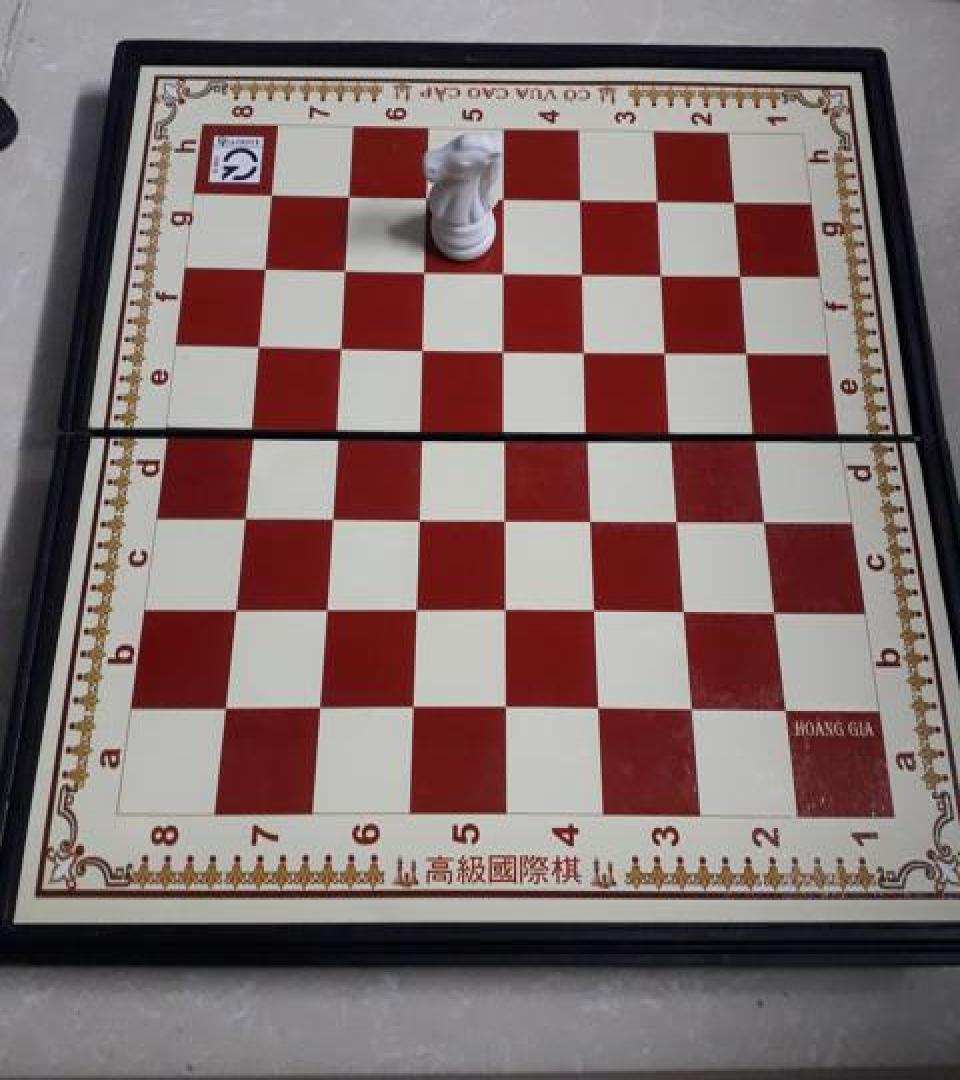xcorner: (491, 588, 523, 625), (581, 588, 613, 625), (671, 588, 703, 625), (761, 588, 793, 625), (209, 686, 241, 722), (303, 688, 335, 724), (397, 688, 429, 724), (491, 688, 523, 724), (584, 688, 616, 724), (678, 688, 710, 724), (771, 688, 803, 724), (218, 587, 250, 623), (309, 587, 341, 623), (400, 587, 432, 623), (227, 494, 259, 530), (315, 494, 347, 530), (403, 495, 435, 531), (490, 495, 522, 531), (578, 496, 610, 532), (665, 496, 697, 532), (751, 496, 783, 532), (236, 407, 268, 443), (321, 407, 353, 443), (406, 408, 438, 444), (490, 408, 522, 444), (575, 410, 607, 446), (659, 410, 691, 446), (743, 410, 775, 446), (244, 325, 276, 361), (326, 326, 358, 362), (408, 326, 440, 362), (490, 328, 522, 364), (572, 328, 604, 364), (735, 330, 767, 366), (251, 248, 283, 284), (331, 250, 363, 286), (410, 251, 442, 287), (490, 251, 522, 287), (569, 252, 601, 288), (648, 252, 680, 288), (727, 253, 759, 289), (258, 178, 290, 214), (335, 178, 367, 214), (412, 179, 444, 215), (490, 179, 522, 215), (566, 180, 598, 216), (643, 181, 675, 217), (720, 181, 752, 217), (653, 329, 685, 364)
